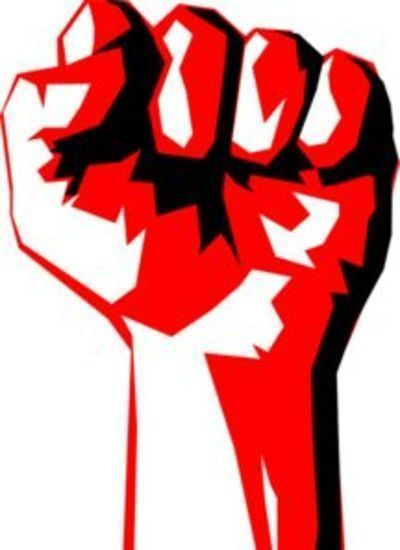closedhandfront: (5, 1, 396, 377)
